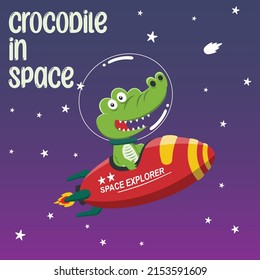roket: (51, 134, 217, 218)
